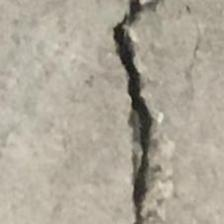Crack: (91, 0, 187, 224)
